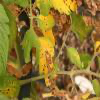Tomato Septoria leaf spot: (31, 28, 59, 88), (37, 11, 56, 32)
